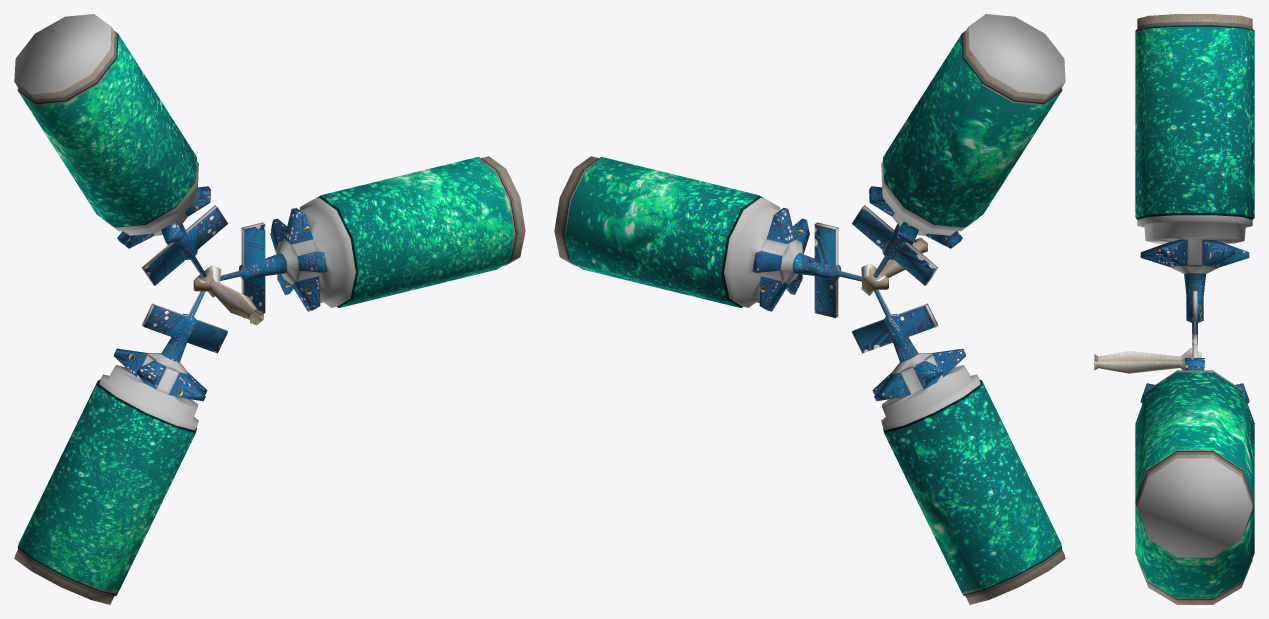
File: AlmacenamientoBio1_00.fbx
The picture shows the model from 3 angles, left to right: view 1: azimuth 30°, elevation 25°; view 2: azimuth 150°, elevation 25°; view 3: azimuth 270°, elevation 25°; orthographic projection. The views are drawn at different scales.
Parts seen in each view (by area): view 1: MatBio1_001; view 2: MatBio1_001; view 3: MatBio1_001.
Part boxes in pixels (x1,y1,x2,y2): MatBio1_001: (14,14,525,604); MatBio1_001: (554,14,1065,604); MatBio1_001: (1094,14,1254,604).
Size of the model in its own units: 0.9373 by 1.08 by 0.2665.
Materials: 1 (1 with a texture image).
